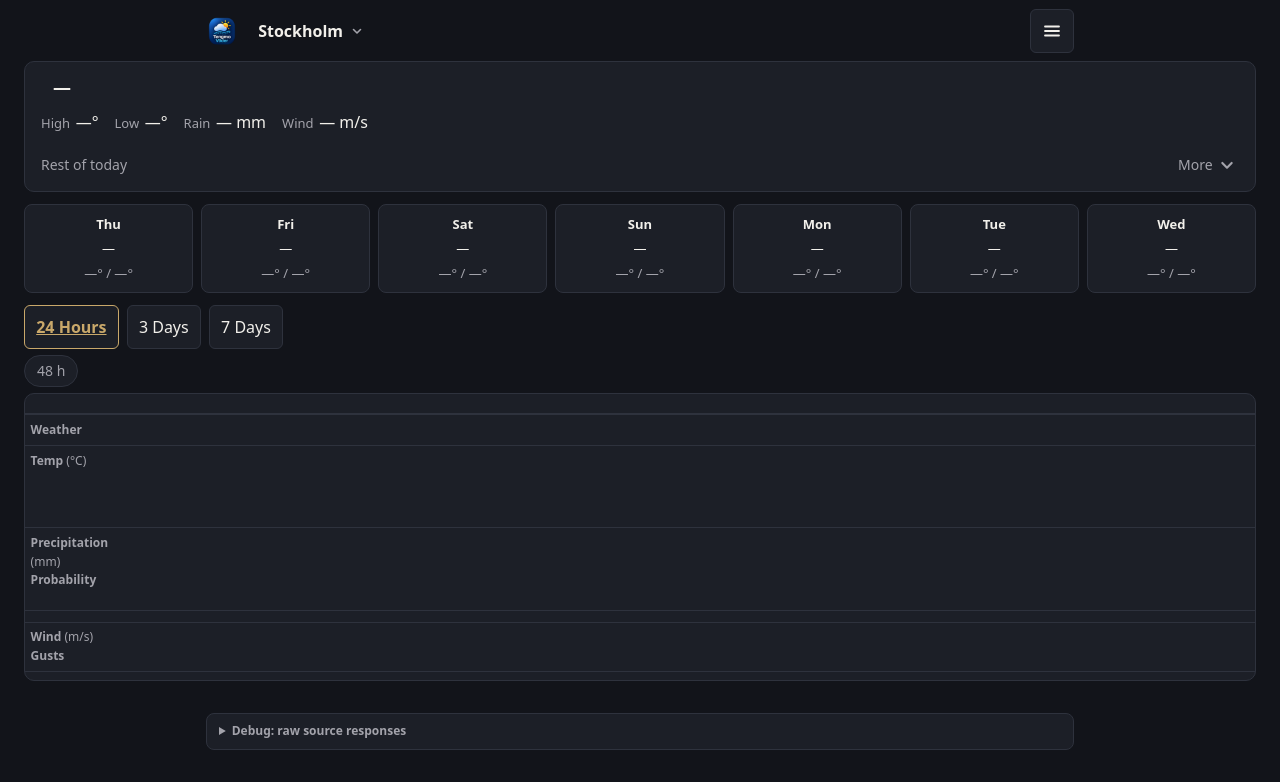
Scenario: Debug panel (060-debug-page-bottom) › renders a collapsed debug section with a heading per source, without any extra fetch of forecast data (FR-002)
Expected: the text "smhi-raw" is not shown
Click the heading "Debug: raw source responses" at (319, 731), box x1=232 y1=722 x2=406 y2=739
(page scrolled)
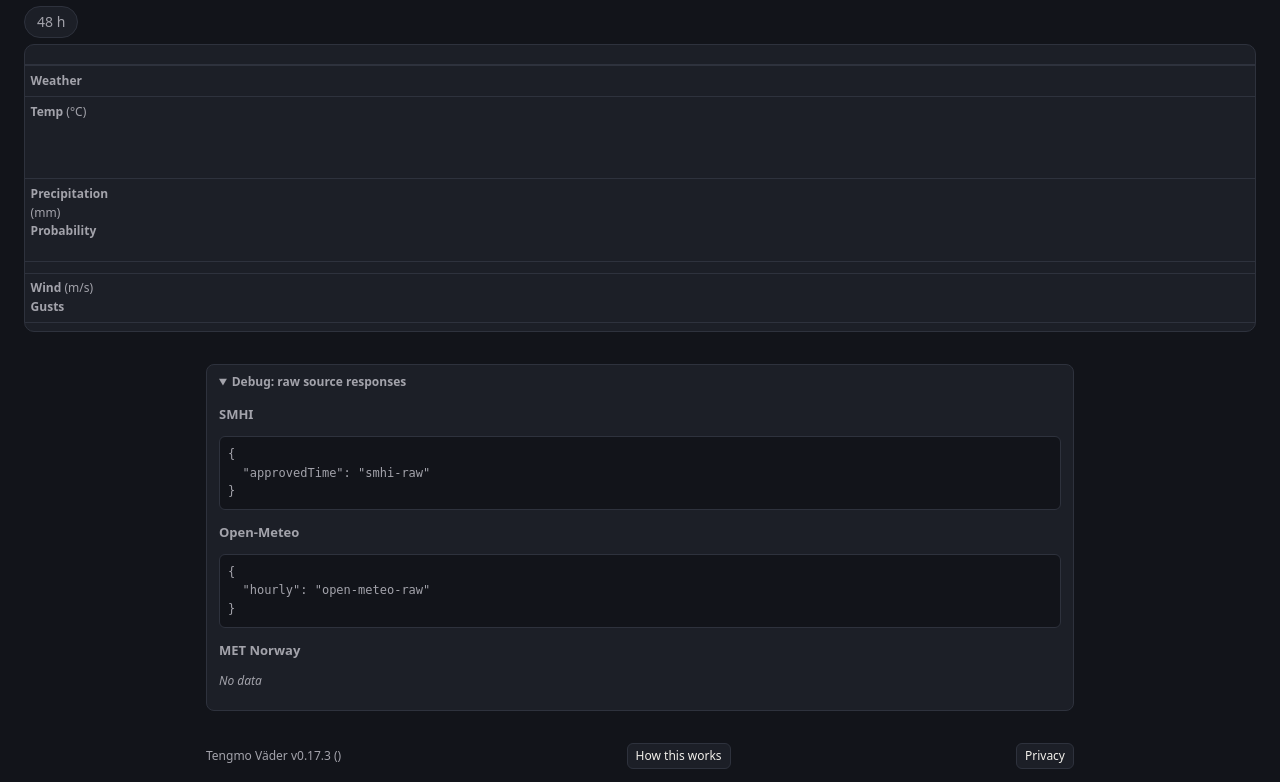
Result: the heading "SMHI" is shown at x1=219 y1=405 x2=253 y2=423
Result: the heading "Open-Meteo" is shown at x1=219 y1=523 x2=299 y2=541
Result: the heading "MET Norway" is shown at x1=219 y1=641 x2=300 y2=659
